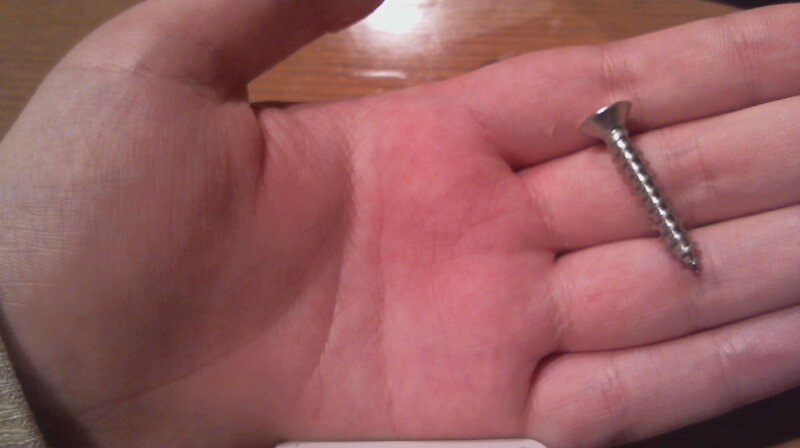S001: (578, 97, 701, 271)
